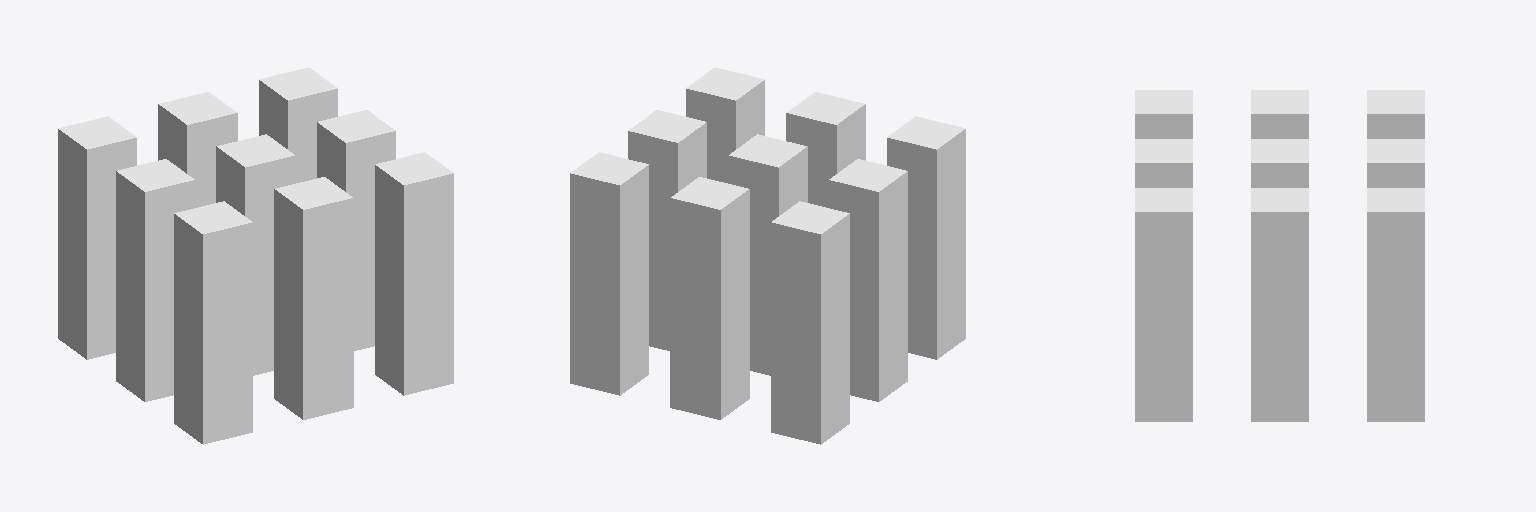
Rendered from grasspatch.obj.
3 views of the same model, side by side, from view 1: azimuth 30°, elevation 25°; view 2: azimuth 150°, elevation 25°; view 3: azimuth 270°, elevation 25° (orthographic).
Size of the model in its own units: 5 by 4 by 5.